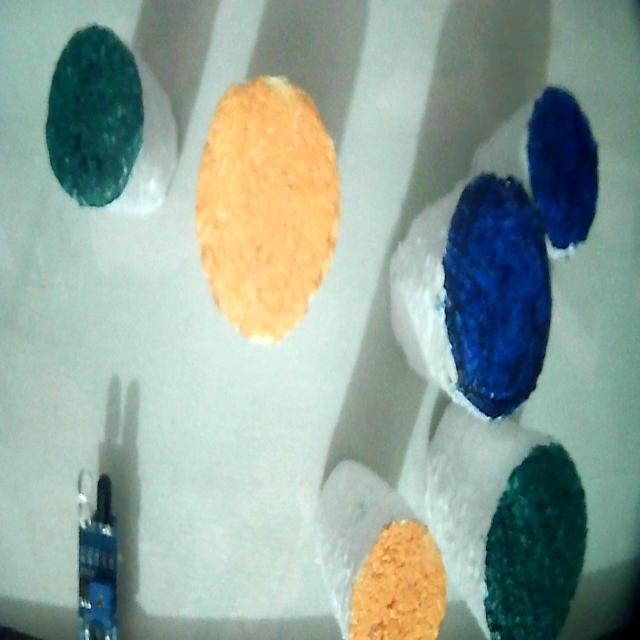blue: (444, 175, 551, 418), (528, 88, 598, 249)
green: (485, 445, 586, 639), (46, 27, 143, 206)
yellow: (196, 77, 339, 342), (351, 525, 445, 639)
